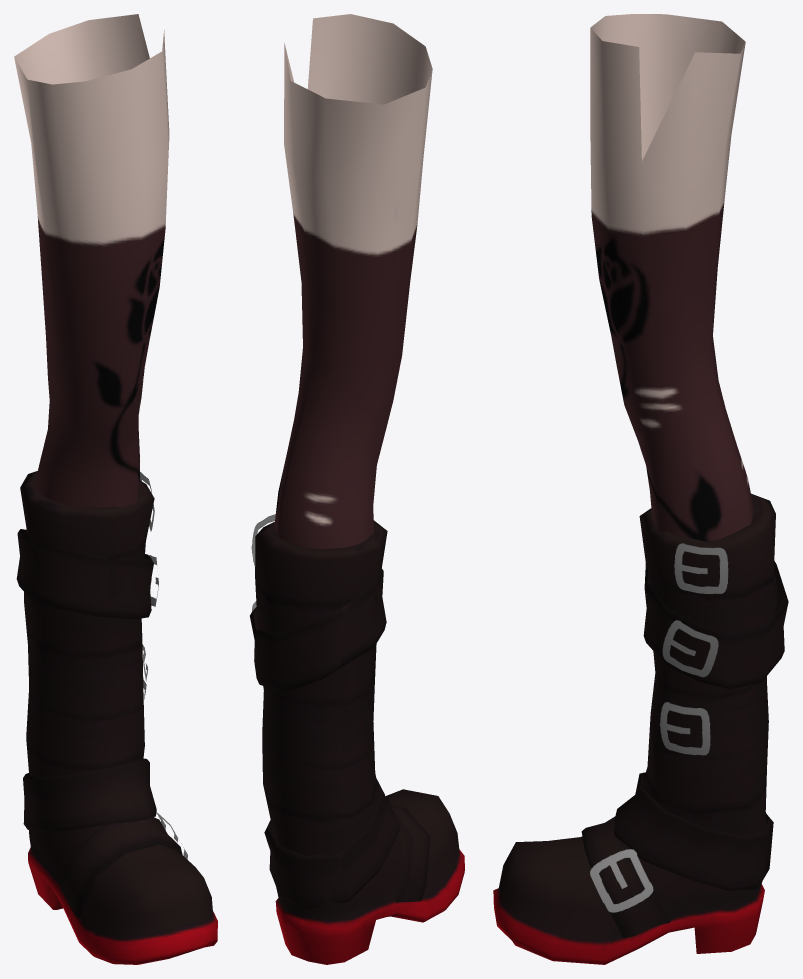
The model's file is RubyPiernaIzq.obj.
The picture shows the model from 3 angles, left to right: view 1: azimuth 30°, elevation 25°; view 2: azimuth 150°, elevation 25°; view 3: azimuth 270°, elevation 25°; orthographic projection. The views are drawn at different scales.
Visible parts, largest first — view 1: node_id28.004_Material_0; view 2: node_id28.004_Material_0; view 3: node_id28.004_Material_0.
Boxes of the visible parts, x1=… form: node_id28.004_Material_0: x1=14, y1=14, x2=217, y2=964; node_id28.004_Material_0: x1=250, y1=14, x2=464, y2=964; node_id28.004_Material_0: x1=493, y1=14, x2=788, y2=964.
Bounding box in the file's own units: 0.033 × 0.1877 × 0.0549.
